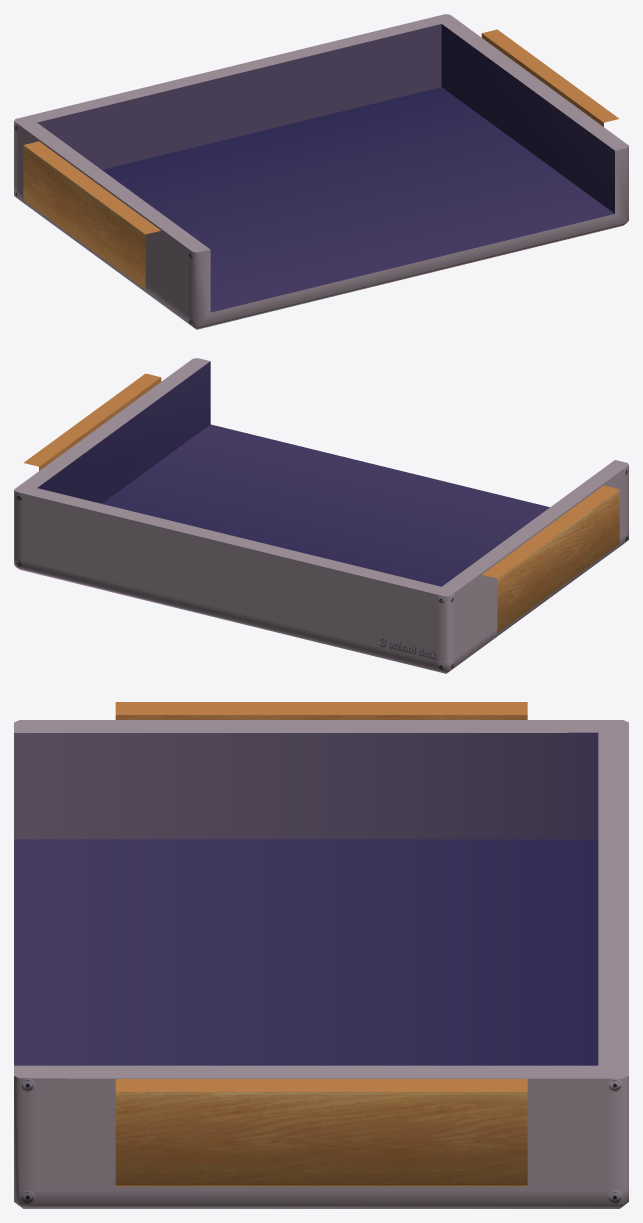
3 views of the same model, one above another, from view 1: azimuth 30°, elevation 25°; view 2: azimuth 150°, elevation 25°; view 3: azimuth 270°, elevation 25° (orthographic). The views are drawn at different scales.
Visible parts, largest first — view 1: Joint_0_Object_1, Joint_0_Object_0, Joint_0_Object_2; view 2: Joint_0_Object_0, Joint_0_Object_1, Joint_0_Object_2; view 3: Joint_0_Object_1, Joint_0_Object_0, Joint_0_Object_2.
Boxes of the visible parts, x1=… form: Joint_0_Object_1: x1=37, y1=24, x2=614, y2=312; Joint_0_Object_0: x1=14, y1=14, x2=628, y2=329; Joint_0_Object_2: x1=23, y1=29, x2=619, y2=289; Joint_0_Object_0: x1=14, y1=358, x2=628, y2=673; Joint_0_Object_1: x1=37, y1=361, x2=549, y2=586; Joint_0_Object_2: x1=23, y1=373, x2=619, y2=633; Joint_0_Object_1: x1=14, y1=732, x2=598, y2=1065; Joint_0_Object_0: x1=14, y1=720, x2=628, y2=1208; Joint_0_Object_2: x1=115, y1=702, x2=527, y2=1186.
Size of the model in its own units: 1500 by 245 by 1000.
3 materials, 3 textured.
